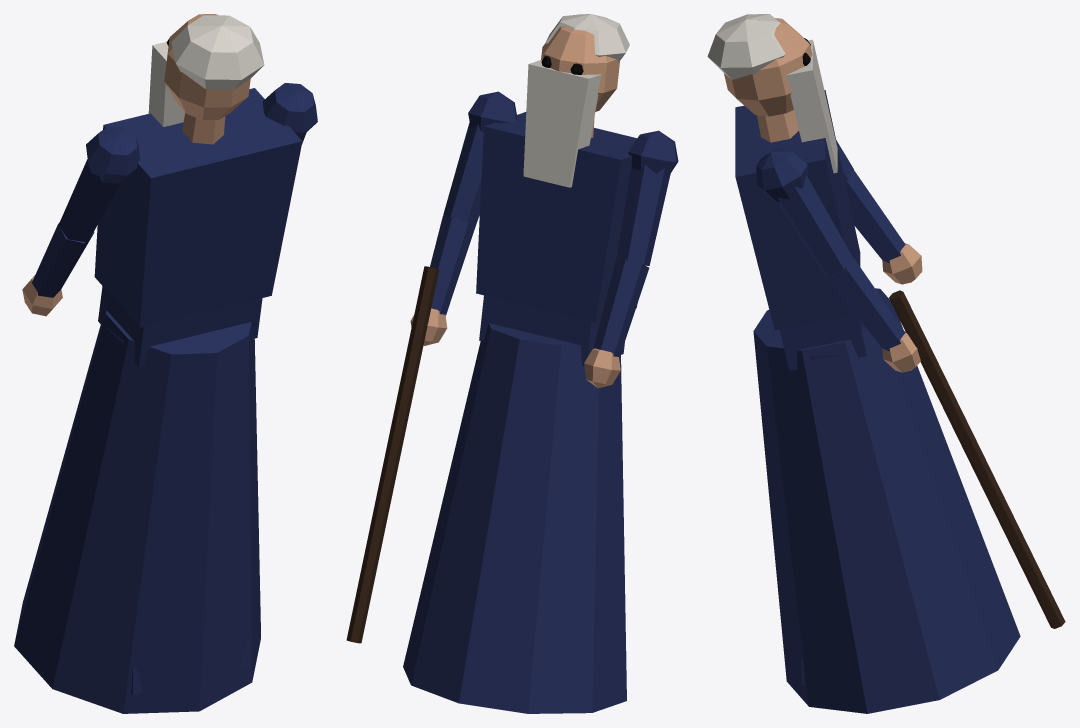
File: npc_elder.glb
The picture shows the model from 3 angles, left to right: view 1: azimuth 30°, elevation 25°; view 2: azimuth 150°, elevation 25°; view 3: azimuth 270°, elevation 25°; orthographic projection. The views are drawn at different scales.
Parts seen in each view (by area): view 1: torso, head, arm_l, arm_r; view 2: torso, head, arm_l, arm_r, weapon; view 3: torso, head, arm_r, weapon, arm_l.
Boxes of the visible parts, bbox=[...] form: torso: bbox=[14, 88, 302, 713]; head: bbox=[148, 14, 264, 144]; arm_l: bbox=[22, 126, 139, 316]; arm_r: bbox=[262, 83, 317, 143]; torso: bbox=[403, 112, 637, 713]; head: bbox=[523, 14, 629, 187]; arm_l: bbox=[584, 130, 678, 388]; arm_r: bbox=[410, 91, 517, 345]; weapon: bbox=[346, 266, 439, 643]; torso: bbox=[735, 90, 1020, 713]; head: bbox=[707, 14, 837, 173]; arm_r: bbox=[756, 148, 920, 372]; weapon: bbox=[889, 290, 1065, 628]; arm_l: bbox=[836, 140, 922, 284].
Size of the model in its own units: 0.5953 by 1.75 by 0.8586.
